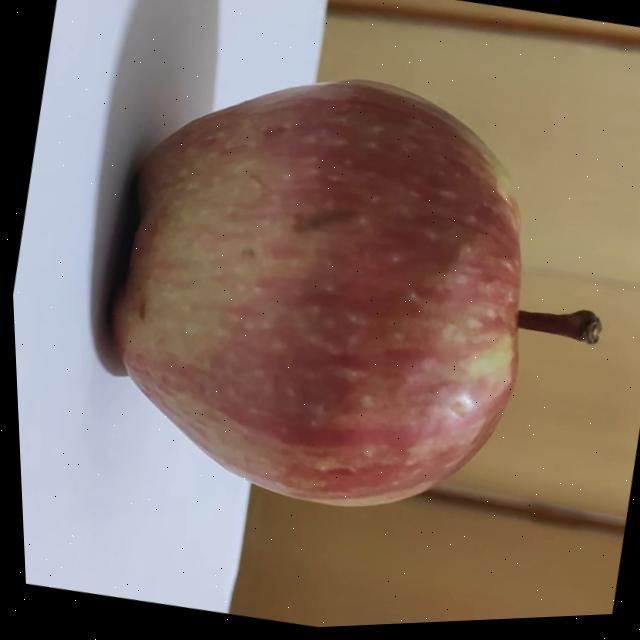Wet: (67, 29, 640, 567)
